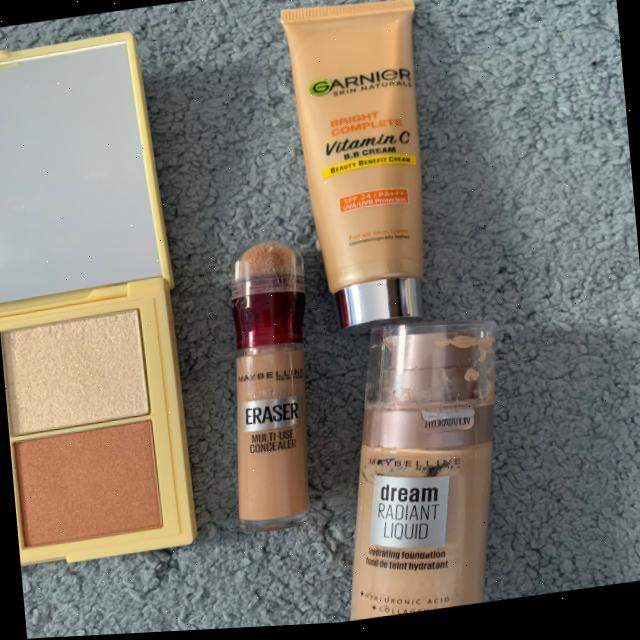bb cream: (279, 0, 448, 328)
concealer: (226, 241, 322, 532)
foundation: (352, 310, 528, 622)
highlighter: (0, 43, 172, 567)
